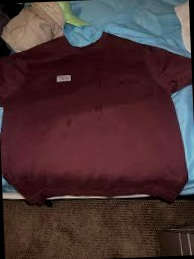oil: (92, 99, 106, 122), (65, 115, 75, 130)
